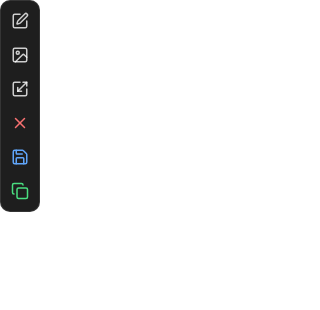
Test: owned pin palettes › dismisses a scale popup with Escape before closing its pin
Click the button named "Scale: 100% (Ctrl 0/+/-)" at (20,89), box x1=4 y1=73 x2=36 y2=105
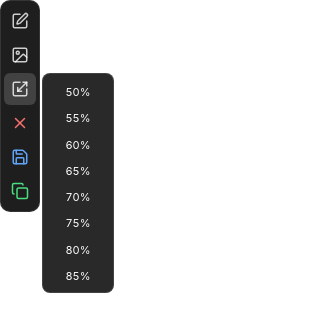
expect the element with test id "pin-scale-options" is shown: met, box x1=42 y1=73 x2=114 y2=293
Press Escape
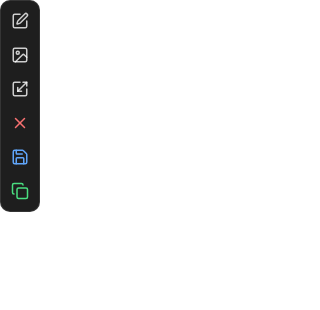
expect the element with test id "pin-scale-options" is gone: met
